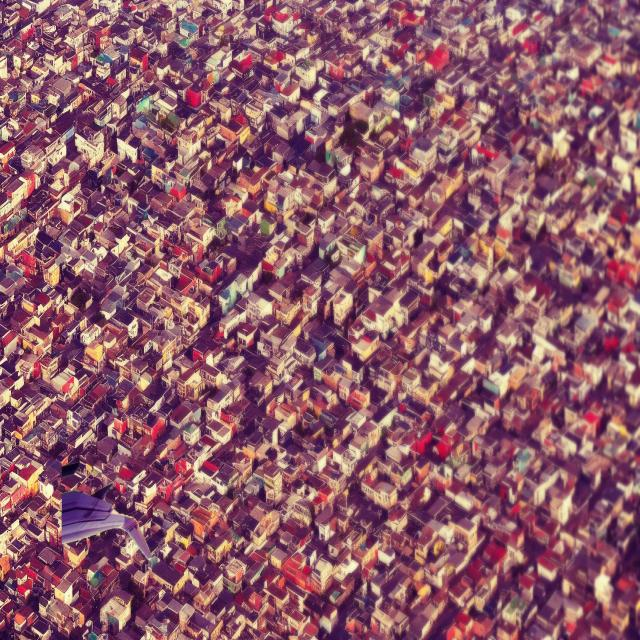airplane: (60, 488, 158, 572)
